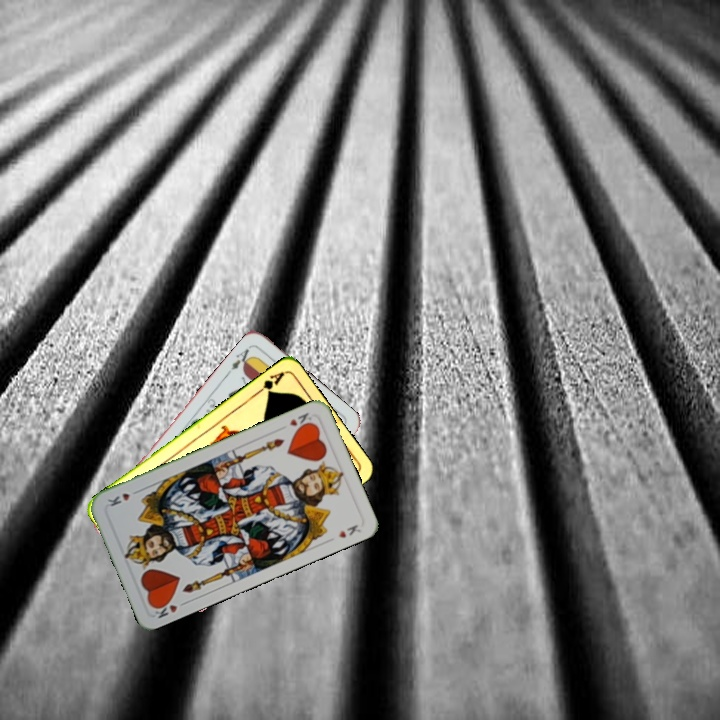EA: (224, 342, 257, 376)
GA: (251, 368, 287, 398)
HK: (148, 596, 190, 621), (285, 408, 315, 433)
